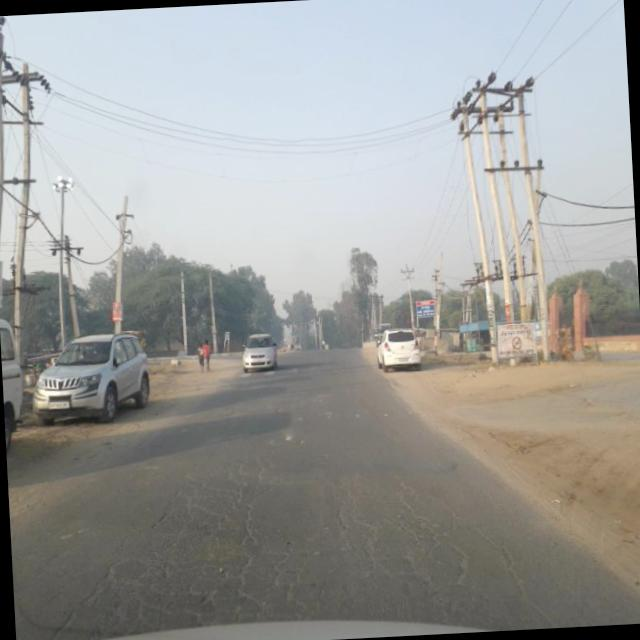crack: (51, 424, 506, 636)
